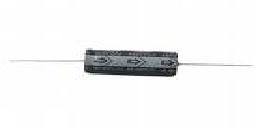Electrolytic Capacitor: (8, 42, 256, 92)
